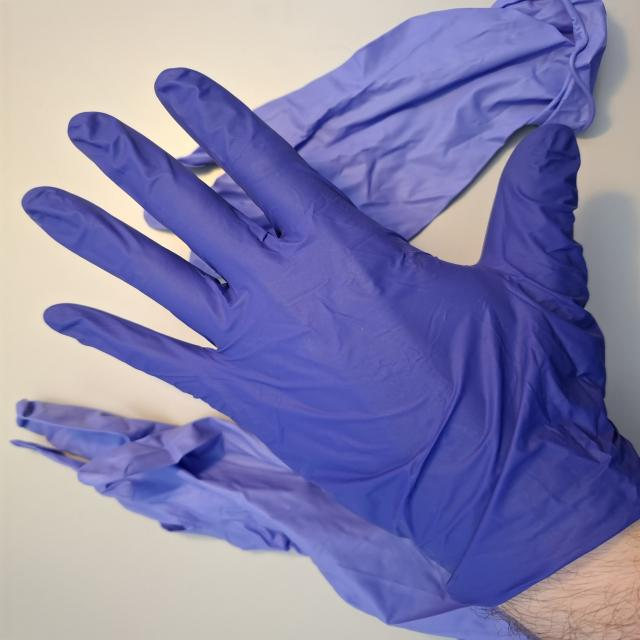glove_on: (18, 64, 640, 587)
